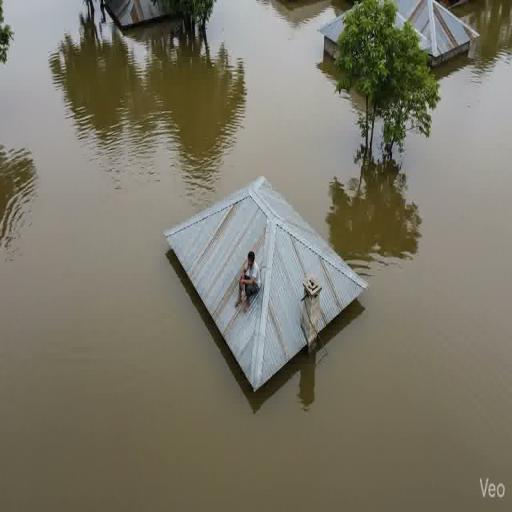human: (230, 244, 260, 312)
